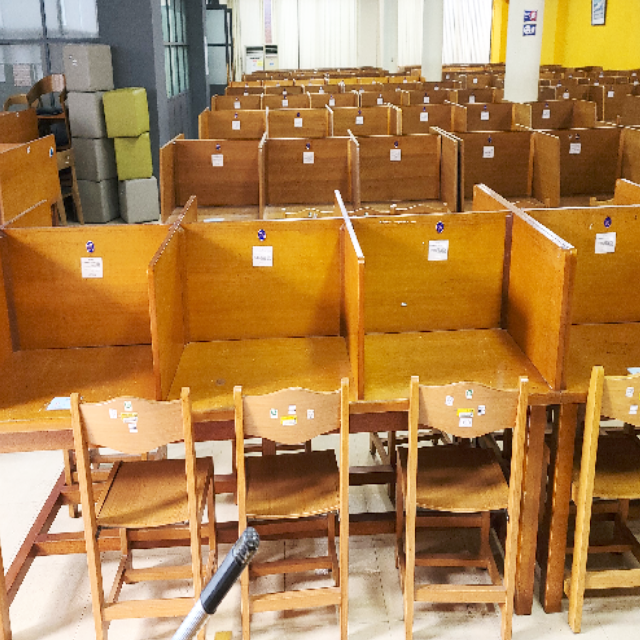empty: (372, 199, 554, 504), (186, 199, 359, 502), (1, 204, 176, 494)
